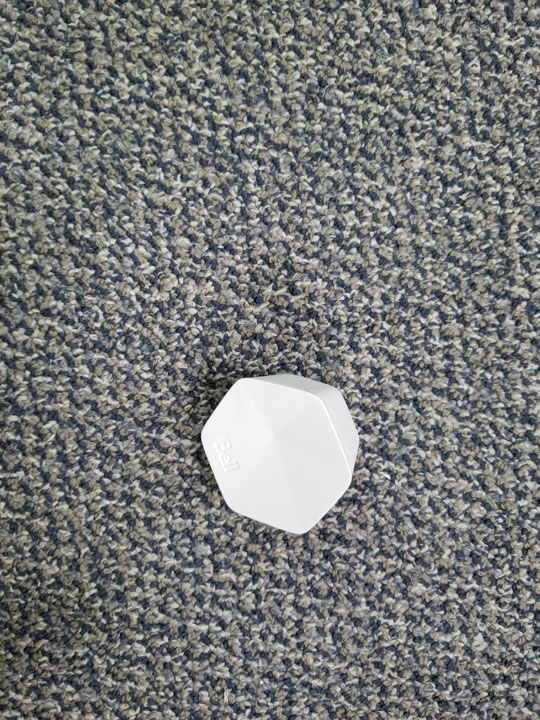pod: (194, 367, 367, 540)
